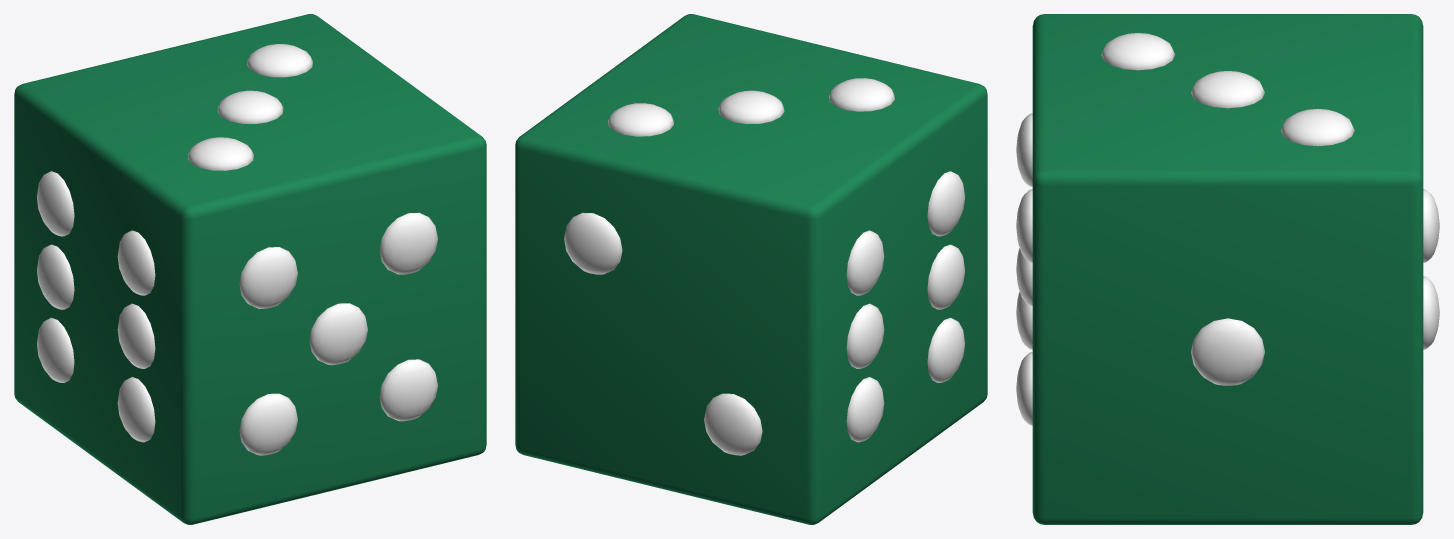
The model's file is Dice.fbx.
3 renders of one model, left to right at view 1: azimuth 30°, elevation 25°; view 2: azimuth 150°, elevation 25°; view 3: azimuth 270°, elevation 25°, orthographic. The views are drawn at different scales.
Visible parts, largest first — view 1: Die, Pip_5_10, Pip_5_13, Pip_5_12, Pip_5_14, Pip_5_11, Pip_6_7, Pip_6_2, Pip_6_3, Pip_6_4, Pip_6_5, Pip_6_6 (+3 smaller); view 2: Die, Pip_2_8, Pip_2_9, Pip_6_4, Pip_6_5, Pip_6_6, Pip_6_7, Pip_6_2, Pip_6_3, Pip_3_15, Pip_3_16, Pip_3_17; view 3: Die, Pip_1_1, Pip_3_16, Pip_3_15, Pip_3_17, Pip_2_8, Pip_2_9, Pip_5_11, Pip_5_13, Pip_5_14, Pip_5_10, Pip_5_12.
Boxes of the visible parts, x1=… form: Die: x1=14, y1=14, x2=486, y2=524; Pip_5_10: x1=239, y1=393, x2=297, y2=455; Pip_5_13: x1=379, y1=359, x2=437, y2=421; Pip_5_12: x1=309, y1=303, x2=367, y2=365; Pip_5_14: x1=379, y1=212, x2=437, y2=274; Pip_5_11: x1=239, y1=247, x2=297, y2=308; Pip_6_7: x1=37, y1=171, x2=74, y2=236; Pip_6_2: x1=117, y1=377, x2=155, y2=442; Pip_6_3: x1=117, y1=303, x2=155, y2=368; Pip_6_4: x1=117, y1=230, x2=155, y2=295; Pip_6_5: x1=37, y1=317, x2=74, y2=382; Pip_6_6: x1=37, y1=244, x2=74, y2=309; Die: x1=515, y1=14, x2=987, y2=524; Pip_2_8: x1=704, y1=393, x2=762, y2=455; Pip_2_9: x1=564, y1=212, x2=622, y2=274; Pip_6_4: x1=927, y1=171, x2=964, y2=236; Pip_6_5: x1=846, y1=377, x2=884, y2=442; Pip_6_6: x1=846, y1=303, x2=884, y2=368; Pip_6_7: x1=846, y1=230, x2=884, y2=295; Pip_6_2: x1=927, y1=317, x2=964, y2=382; Pip_6_3: x1=927, y1=244, x2=964, y2=309; Pip_3_15: x1=829, y1=78, x2=894, y2=111; Pip_3_16: x1=718, y1=90, x2=784, y2=123; Pip_3_17: x1=608, y1=103, x2=673, y2=136; Die: x1=1032, y1=14, x2=1423, y2=524; Pip_1_1: x1=1191, y1=318, x2=1264, y2=385; Pip_3_16: x1=1191, y1=71, x2=1264, y2=108; Pip_3_15: x1=1101, y1=33, x2=1175, y2=70; Pip_3_17: x1=1280, y1=108, x2=1354, y2=146; Pip_2_8: x1=1423, y1=276, x2=1439, y2=349; Pip_2_9: x1=1423, y1=189, x2=1439, y2=262; Pip_5_11: x1=1016, y1=113, x2=1032, y2=186; Pip_5_13: x1=1016, y1=352, x2=1032, y2=425; Pip_5_14: x1=1016, y1=189, x2=1032, y2=262; Pip_5_10: x1=1016, y1=291, x2=1032, y2=349; Pip_5_12: x1=1016, y1=248, x2=1032, y2=306.
Size of the model in its own units: 217 by 217 by 217.
